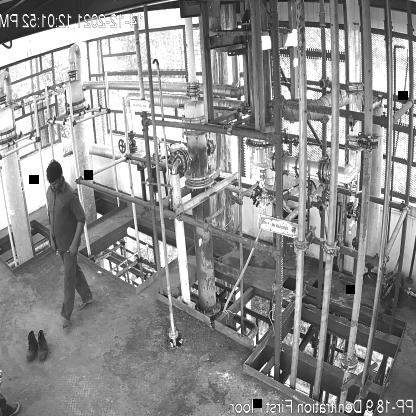no_shoes: (77, 292, 94, 311), (61, 314, 74, 329)
shoes: (23, 328, 39, 368), (37, 329, 51, 361)
